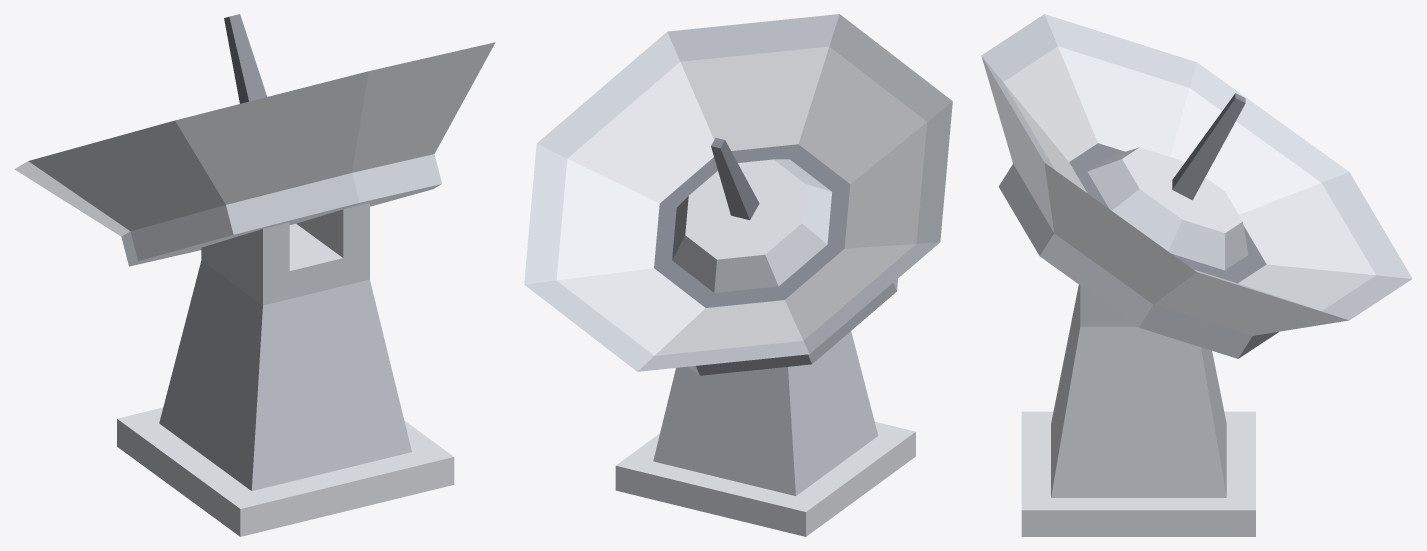
Rendered from comms.glb.
The picture shows the model from 3 angles, left to right: view 1: azimuth 30°, elevation 25°; view 2: azimuth 150°, elevation 25°; view 3: azimuth 270°, elevation 25°; orthographic projection. The views are drawn at different scales.
Visible parts, largest first — view 1: satelliteDish_large; view 2: satelliteDish_large; view 3: satelliteDish_large.
Boxes of the visible parts, x1,y1,x2,y2 form: satelliteDish_large: [14, 14, 495, 536]; satelliteDish_large: [524, 14, 952, 536]; satelliteDish_large: [981, 14, 1412, 536].
Size of the model in its own units: 0.8487 by 0.8142 by 0.7369.
Materials: 1 (1 with a texture image).
